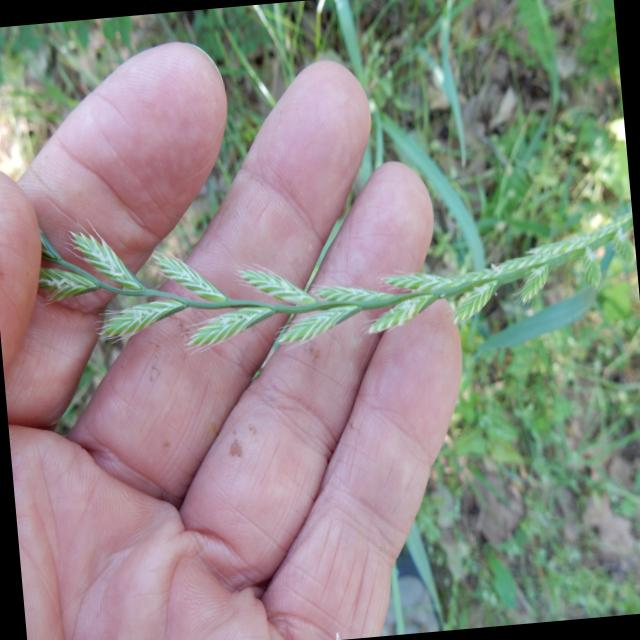Lolium: (30, 173, 640, 393)
